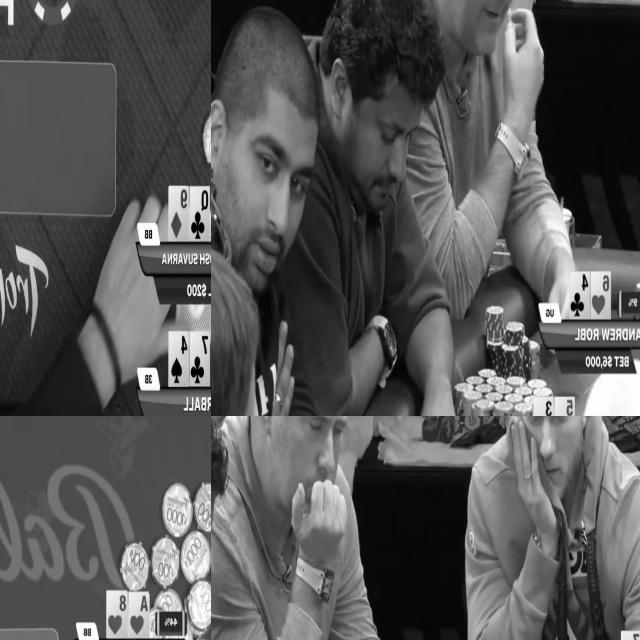3C: (534, 396, 552, 416)
4C: (571, 273, 589, 319)
4S: (169, 332, 188, 387)
5D: (555, 397, 574, 416)
6H: (591, 272, 610, 319)
7C: (190, 333, 209, 386)
8H: (106, 590, 127, 638)
9D: (169, 186, 188, 242)
AH: (128, 594, 149, 637)
QC: (190, 187, 209, 240)
